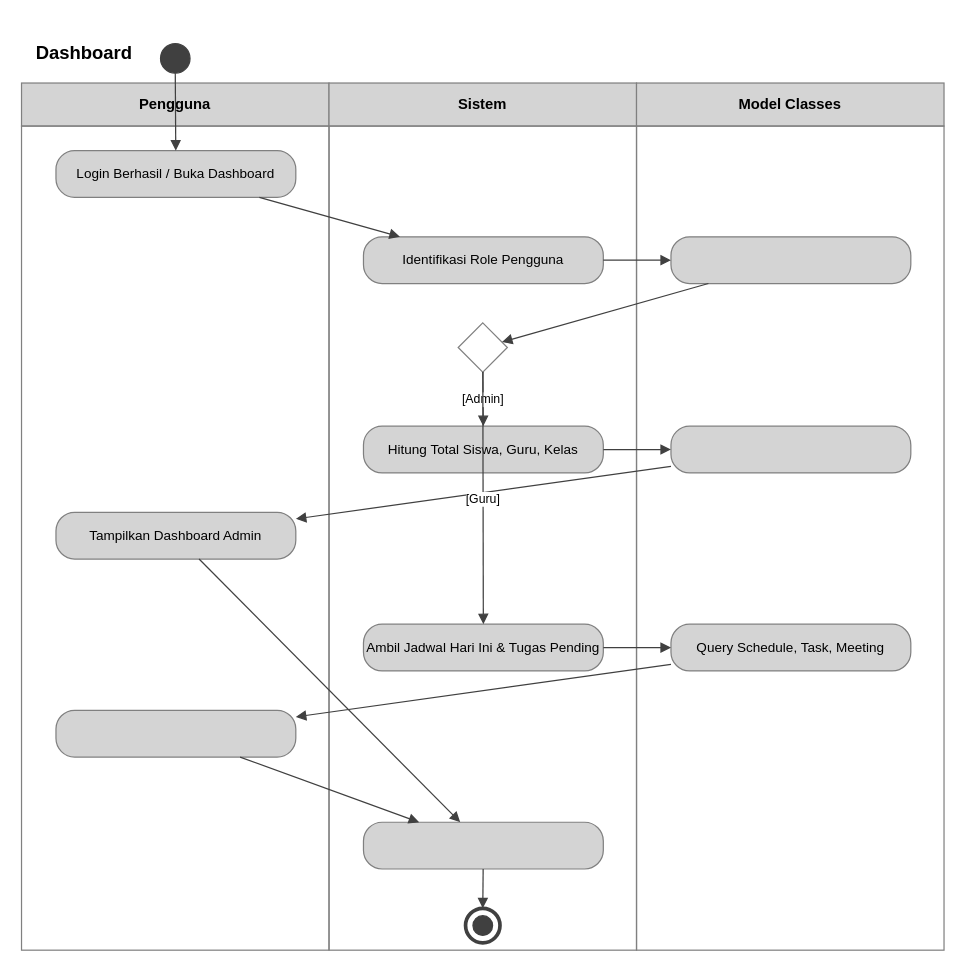
Image size: 966x972. Some labels were removed from this diagram. Each missing label, with the centre of its shape:
"Count Student, Teacher, Class" belongs at (790,449).
"Query User.role" belongs at (790,260).
"Render Halaman Dashboard" belongs at (482,845).
"Tampilkan Dashboard Guru" belongs at (175,733).
